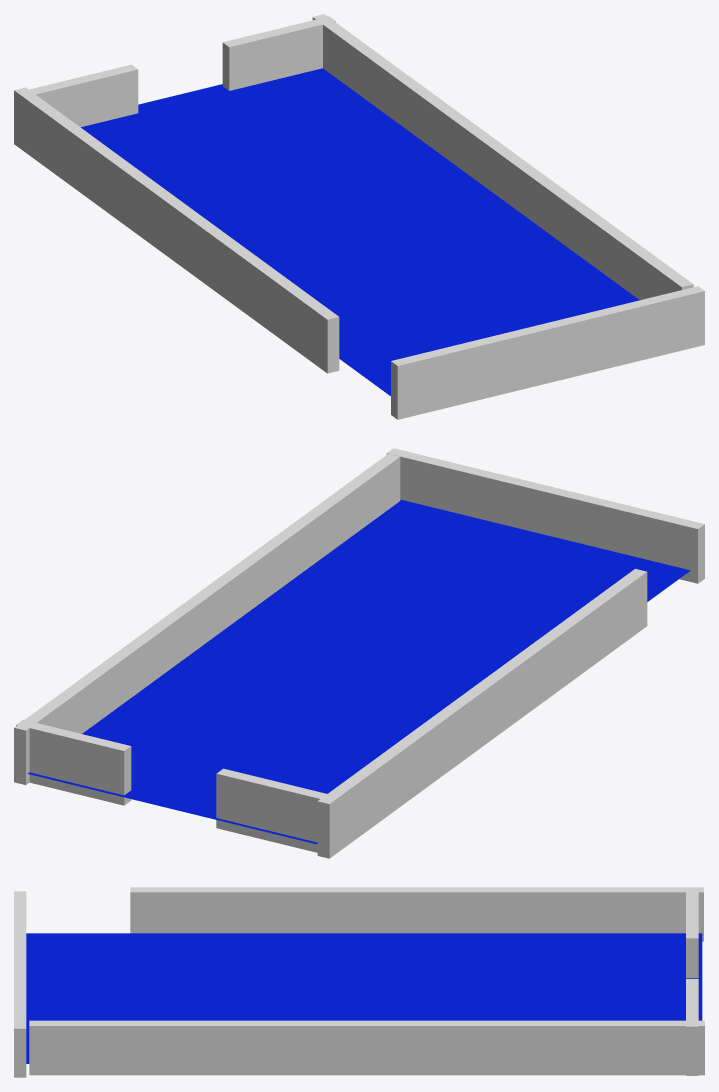
File: MDL_E_LVL_Temple_04.fbx
3 renders of one model, top to bottom at view 1: azimuth 30°, elevation 25°; view 2: azimuth 150°, elevation 25°; view 3: azimuth 270°, elevation 25°, orthographic. The views are drawn at different scales.
Parts seen in each view (by area): view 1: Plane.004; view 2: Plane.004; view 3: Plane.004.
Boxes of the visible parts, left/top/right/bottom form: Plane.004: left=14, top=14, right=704, bottom=419; Plane.004: left=14, top=448, right=704, bottom=858; Plane.004: left=14, top=887, right=704, bottom=1077.
Size of the model in its own units: 1658 by 279 by 3456.
